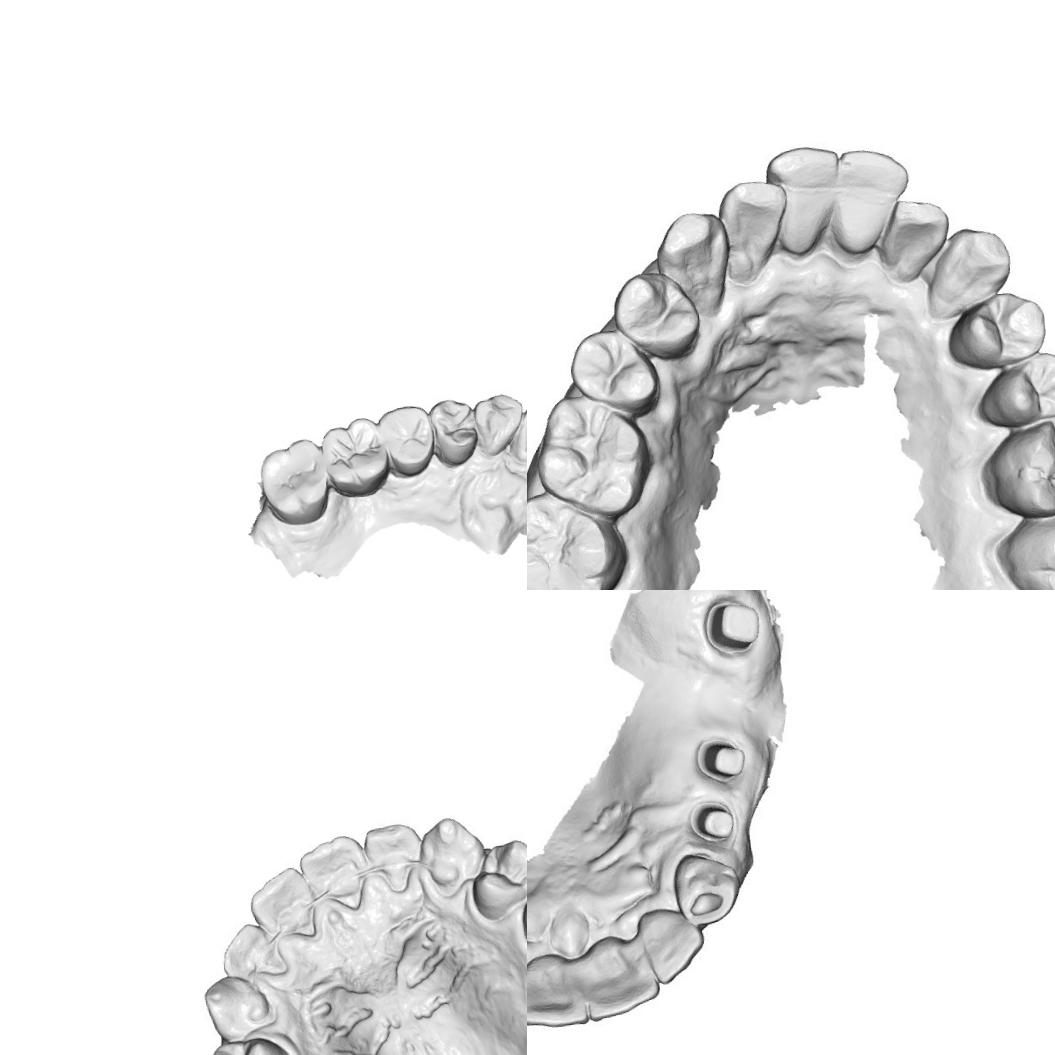abutment: (696, 590, 768, 664), (689, 722, 756, 799), (686, 794, 740, 849)
canine: (651, 207, 736, 320), (926, 220, 1016, 318), (416, 812, 488, 900), (672, 849, 746, 926), (201, 970, 272, 1044), (469, 389, 527, 458)
incisor: (831, 144, 909, 261), (713, 175, 793, 286), (766, 142, 842, 256), (581, 928, 662, 1019), (879, 194, 951, 290), (245, 864, 319, 944), (527, 947, 596, 1032), (296, 832, 369, 910), (639, 904, 706, 980), (361, 820, 426, 893), (218, 918, 287, 981), (505, 400, 527, 464)
molar: (533, 392, 655, 511), (527, 485, 634, 590), (985, 408, 1055, 517), (252, 434, 332, 528), (318, 412, 392, 500), (996, 491, 1055, 590)
premolar: (950, 287, 1051, 377), (608, 264, 702, 356), (566, 324, 660, 410), (975, 346, 1055, 435), (466, 836, 527, 922), (376, 402, 438, 480), (424, 396, 480, 469), (201, 1033, 295, 1055)
